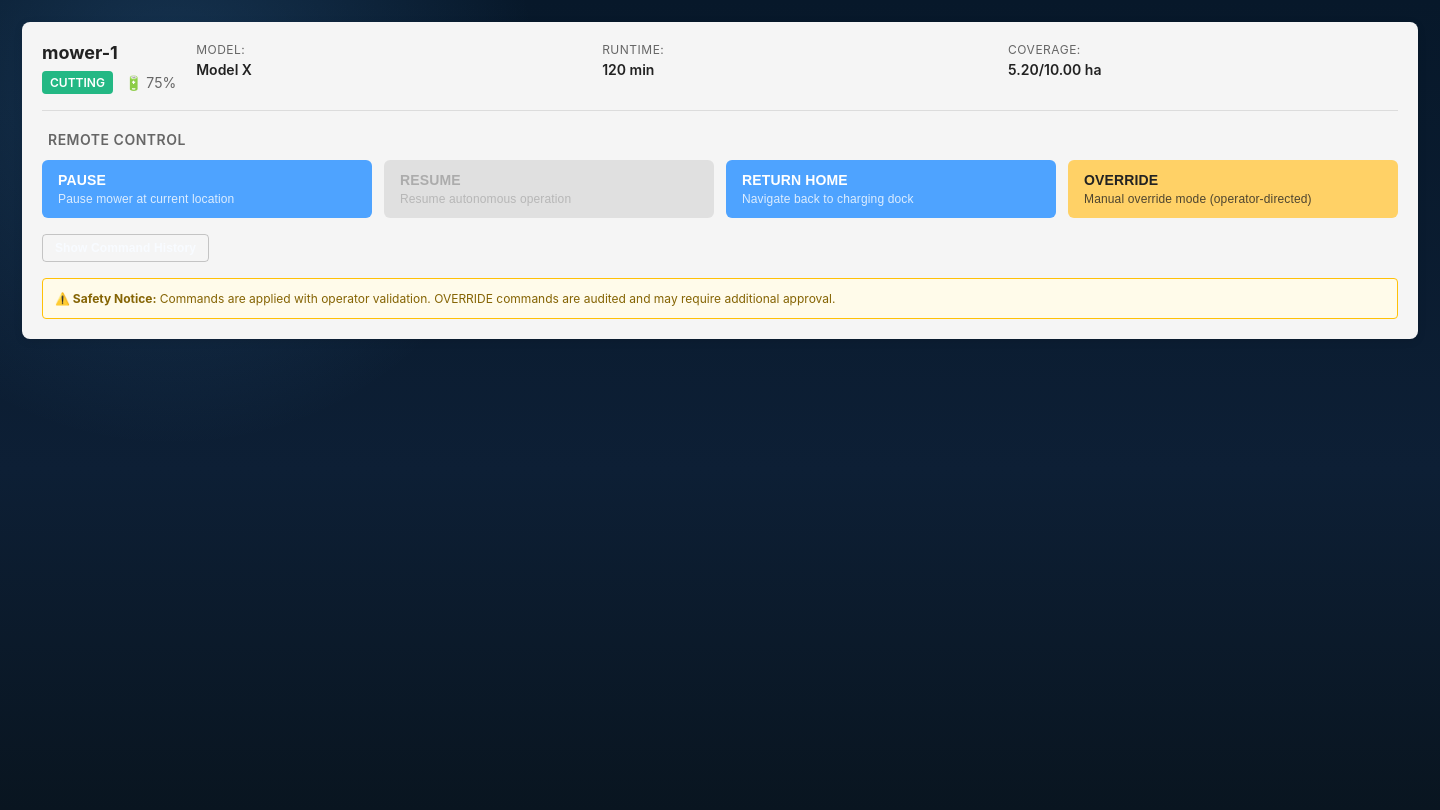
Test: MowerControlPanel.vue › displays success message after command sent
What coordinates should you click on to do the following:
click the button with class "command-btn" that starts with "PAUSE"
I would click on:
 (207, 189)
Its box is [42,160,372,218].
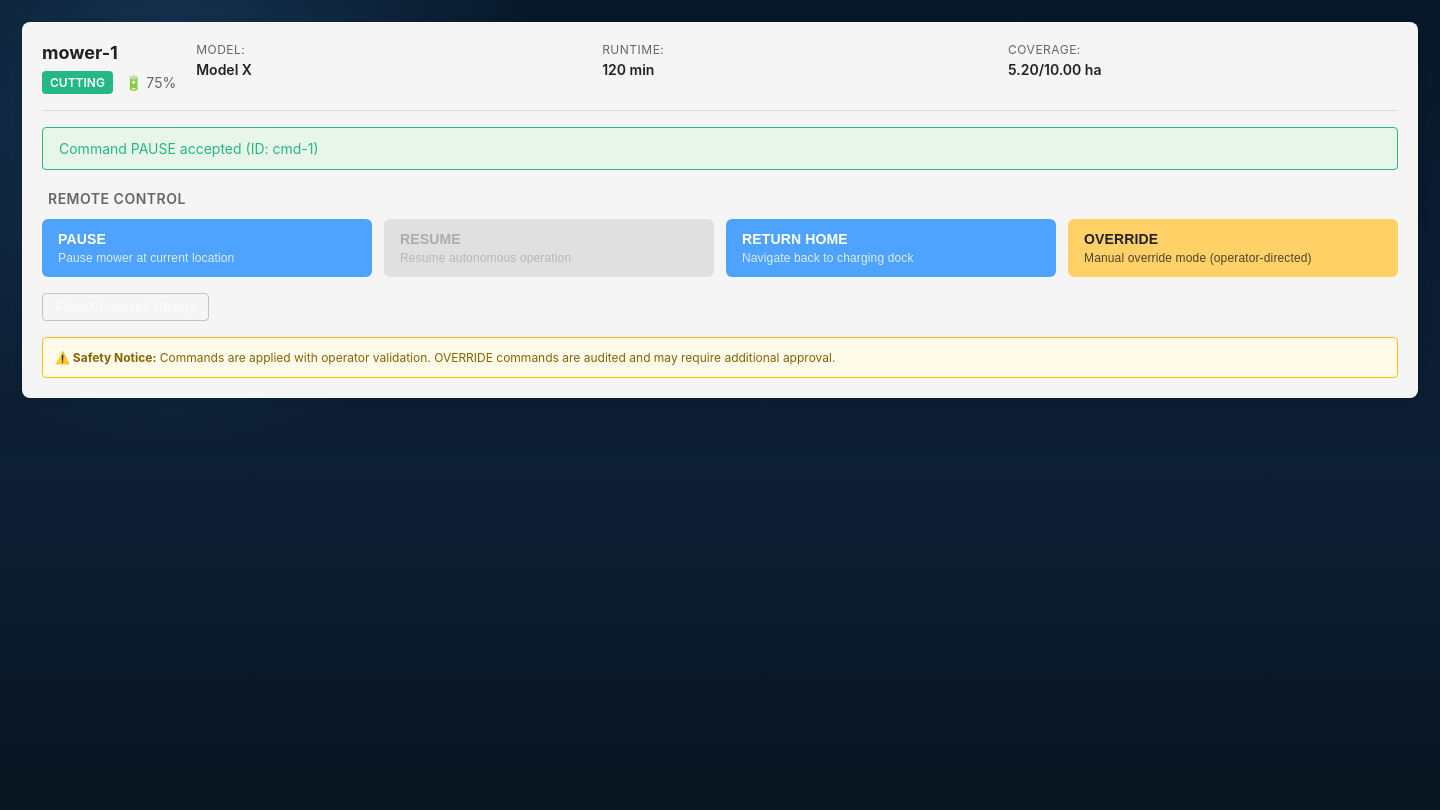
Result: the text "accepted" is shown at [59,140,319,157]
